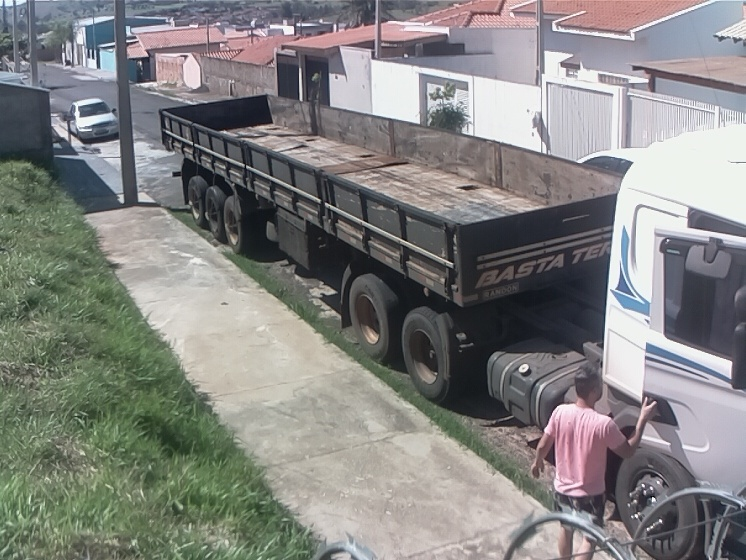person: (529, 363, 660, 560)
